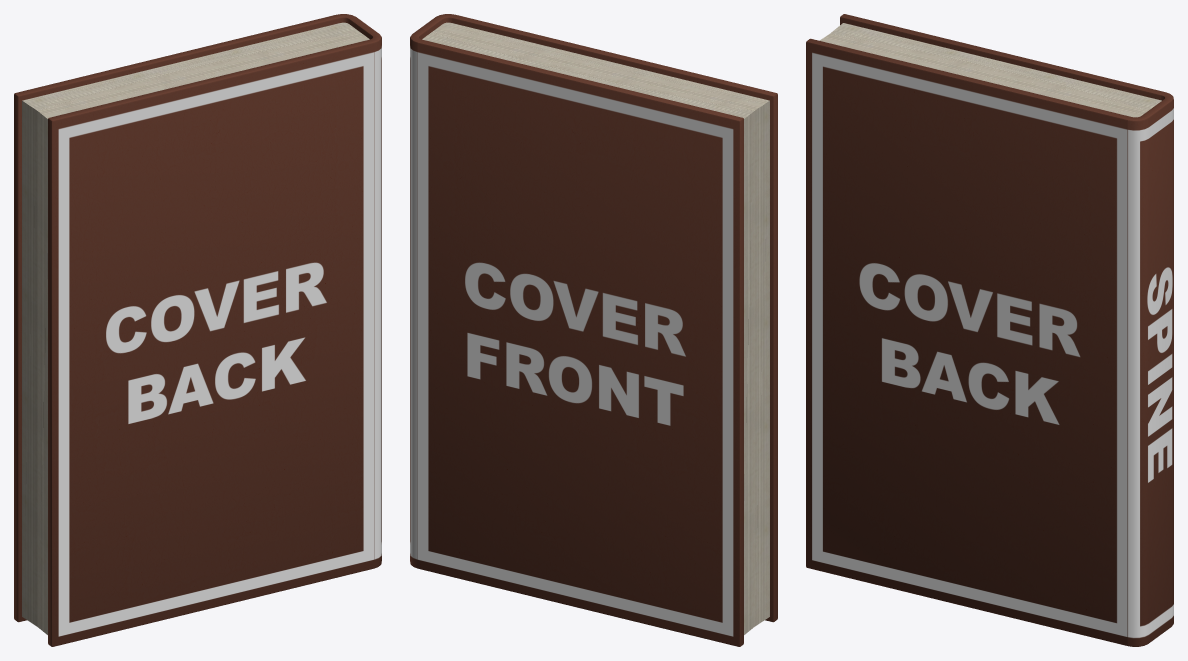
The model's file is book.gltf.
The picture shows the model from 3 angles, left to right: view 1: azimuth 30°, elevation 25°; view 2: azimuth 150°, elevation 25°; view 3: azimuth 330°, elevation 25°; orthographic projection.
Parts seen in each view (by area): view 1: CoverBack, PagesFront, PagesBack, CoverFront, Spine; view 2: CoverFront, PagesBack, PagesFront, CoverBack, Spine; view 3: CoverBack, Spine, PagesBack, PagesFront, CoverFront.
Part boxes in pixels (left/top/right/bottom): CoverBack: left=48, top=39, right=374, bottom=646; PagesFront: left=22, top=22, right=359, bottom=626; PagesBack: left=37, top=32, right=369, bottom=634; CoverFront: left=14, top=15, right=339, bottom=622; Spine: left=336, top=14, right=381, bottom=568; CoverFront: left=417, top=39, right=743, bottom=646; PagesBack: left=432, top=22, right=769, bottom=626; PagesFront: left=422, top=32, right=754, bottom=634; CoverBack: left=452, top=15, right=777, bottom=622; Spine: left=410, top=14, right=455, bottom=568; CoverBack: left=806, top=38, right=1130, bottom=645; Spine: left=1127, top=92, right=1173, bottom=646; PagesBack: left=819, top=34, right=1147, bottom=117; PagesFront: left=830, top=23, right=1161, bottom=110; CoverFront: left=840, top=14, right=1164, bottom=100.
Size of what is drawn, in the model's own units: 0.2673 by 0.4009 by 0.0531.
Materials: 8 (8 with a texture image).
